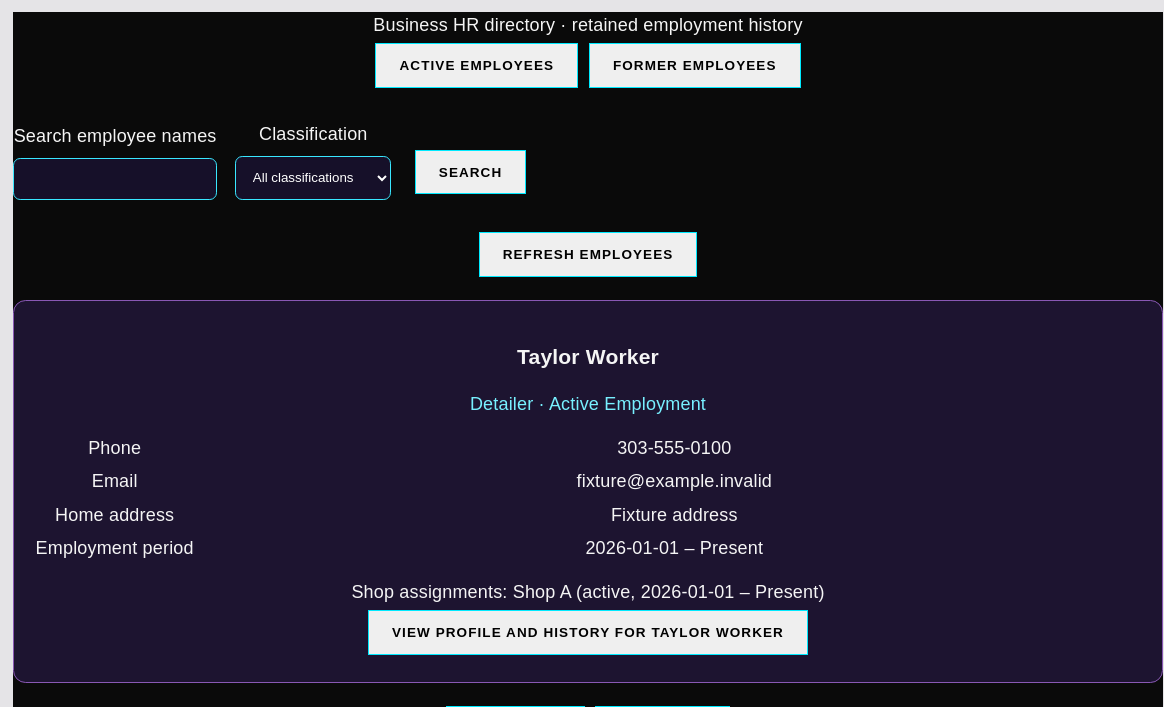
refresh failure 401 removes contact and profile data
The image size is (1164, 707).
Expected: the text "Fixture address" is shown, [611,505,738,525]
Click the button "Refresh employees": (588, 254) [479,232,697,277]
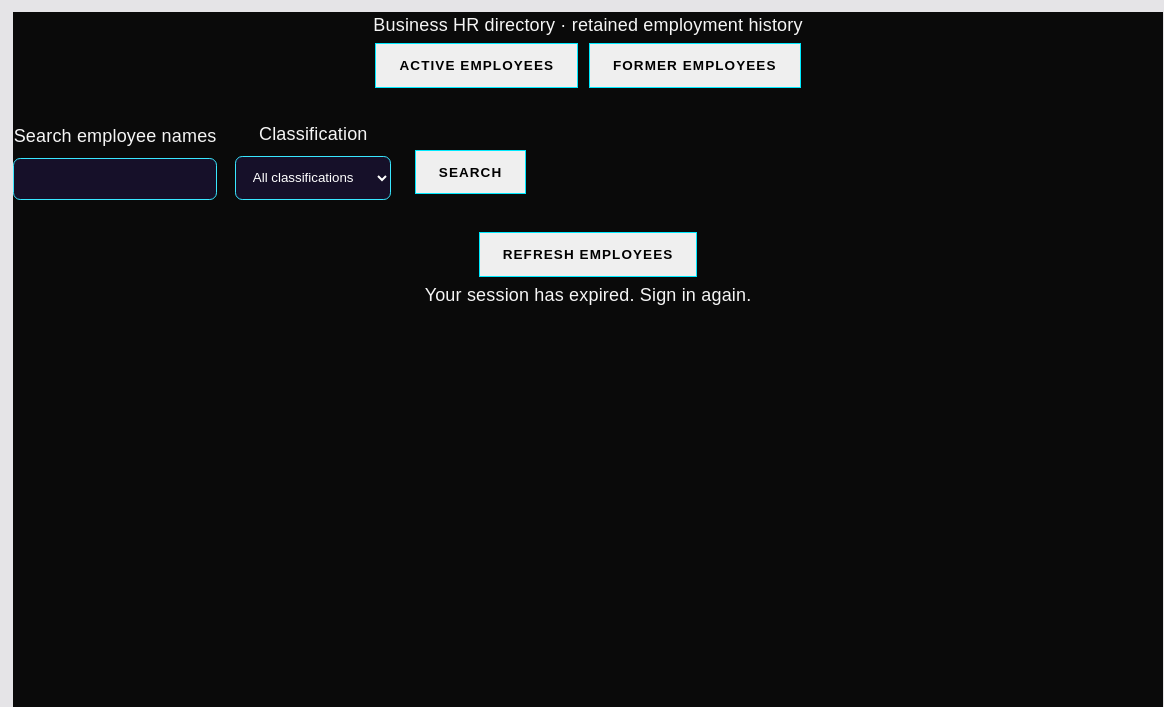
Expected: the message "Your session has expired. Sign in again." is shown, [425,285,751,305]
Expected: the text "Fixture address" is gone
